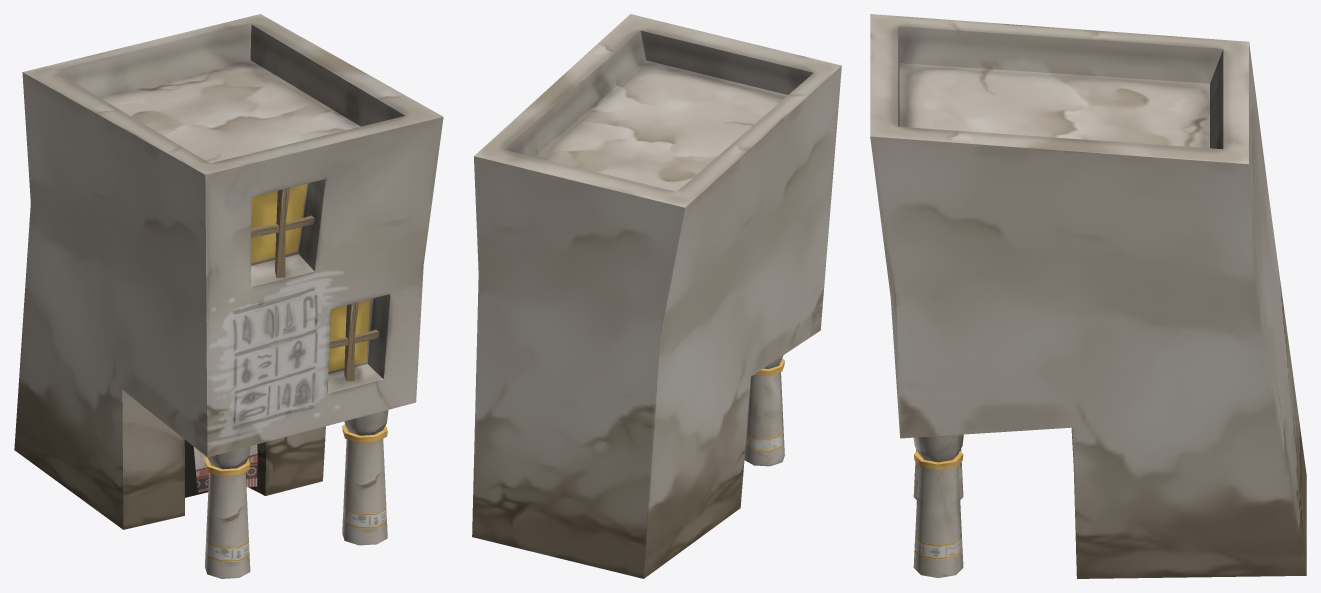
File: Egypt_Village_Buildings_08.FBX
3 views of the same model, side by side, from view 1: azimuth 30°, elevation 25°; view 2: azimuth 150°, elevation 25°; view 3: azimuth 270°, elevation 25° (orthographic). The views are drawn at different scales.
Parts seen in each view (by area): view 1: Egypt_Village_Buildings_08; view 2: Egypt_Village_Buildings_08; view 3: Egypt_Village_Buildings_08.
Boxes of the visible parts, x1,y1,x2,y2 form: Egypt_Village_Buildings_08: (14, 14, 443, 578); Egypt_Village_Buildings_08: (472, 14, 841, 578); Egypt_Village_Buildings_08: (870, 14, 1306, 578).
Bounding box in the file's own units: 344 × 588 × 511.
